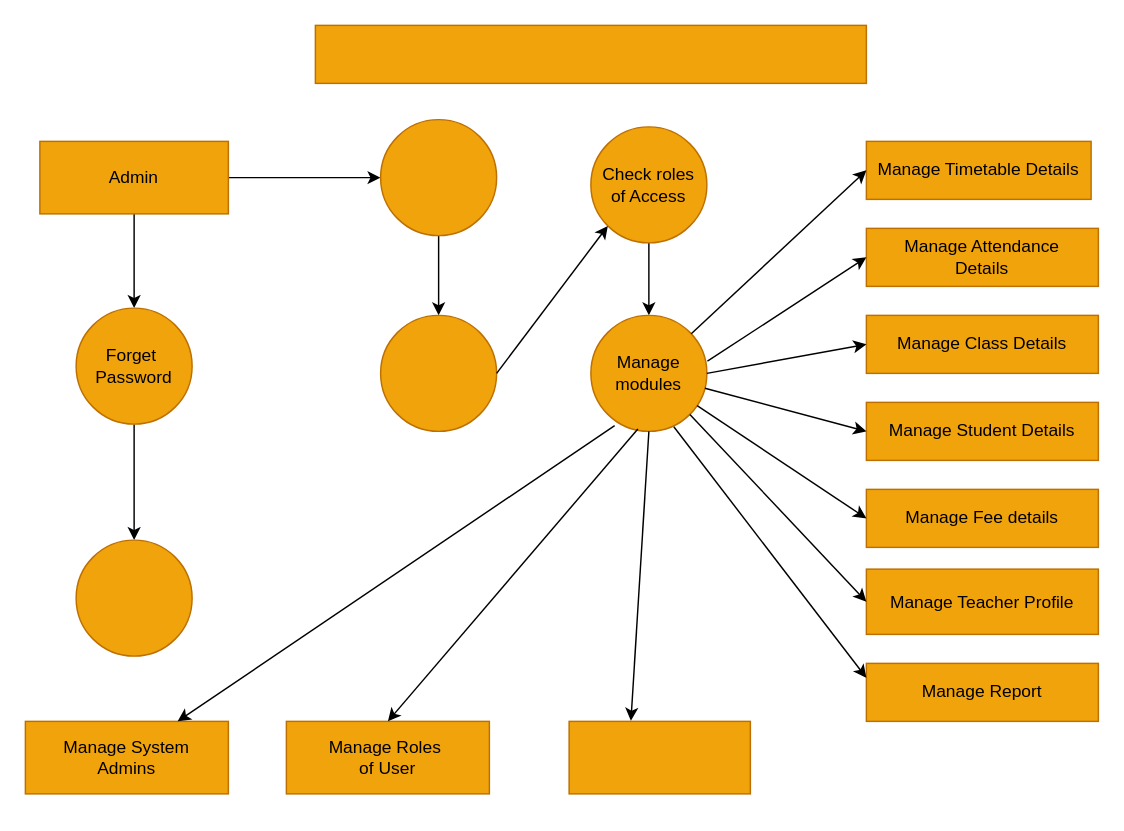
This 1124x831 diagram has some shape labels left out. Here are the shapes that lost their labels. From the top down, the box of each, then its label:
(314, 24, 866, 83): Student Information System
(379, 118, 497, 236): Login to system
(379, 314, 497, 431): Check Credentials
(75, 539, 192, 656): Send Email to User
(568, 720, 750, 794): Manage User Permission
